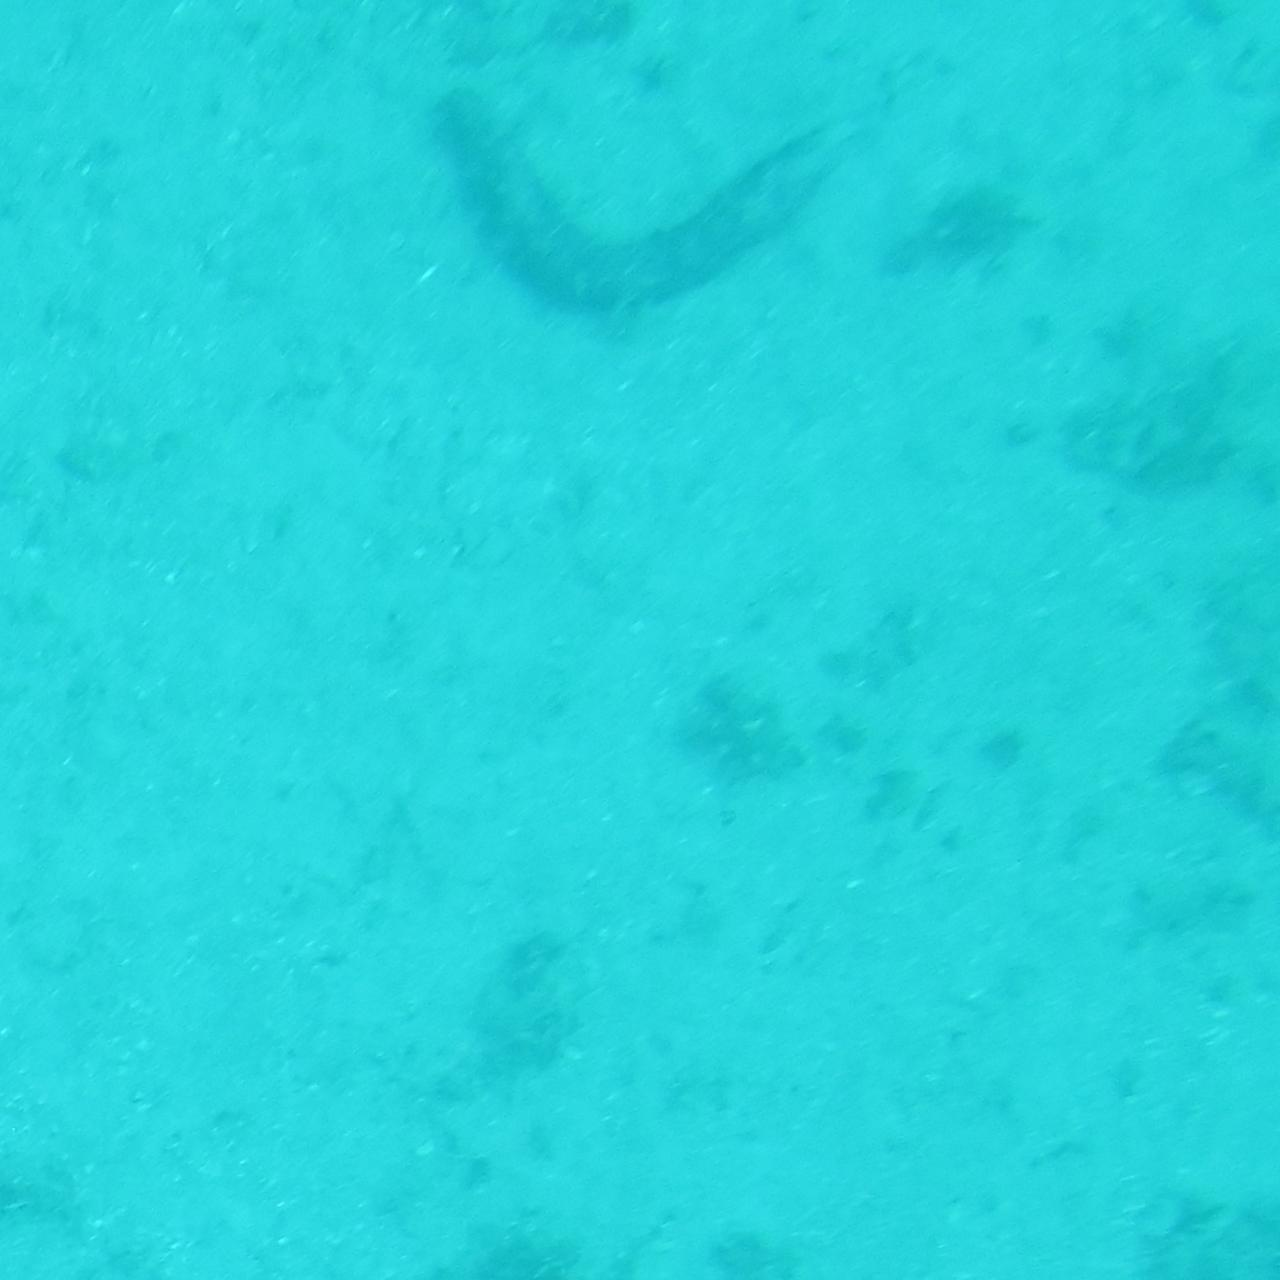Holothuria tubulosa: (426, 76, 854, 321)
